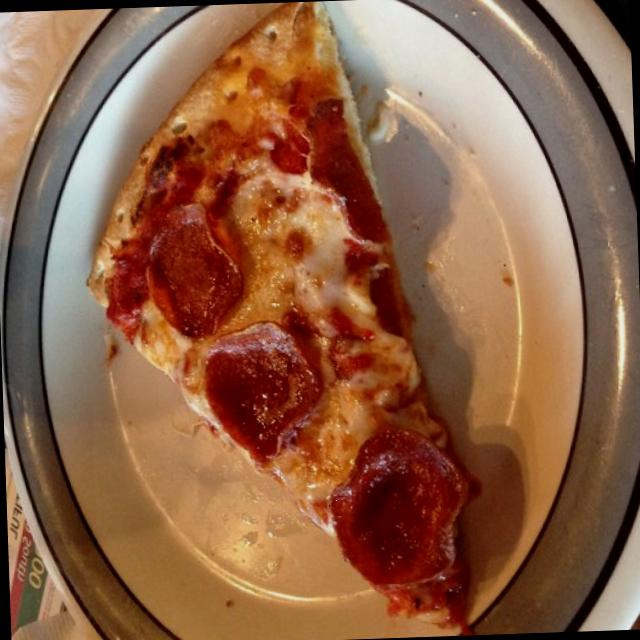pepperoni: (323, 425, 469, 602), (194, 319, 325, 465), (150, 188, 245, 338)
pizza: (88, 0, 472, 635)
